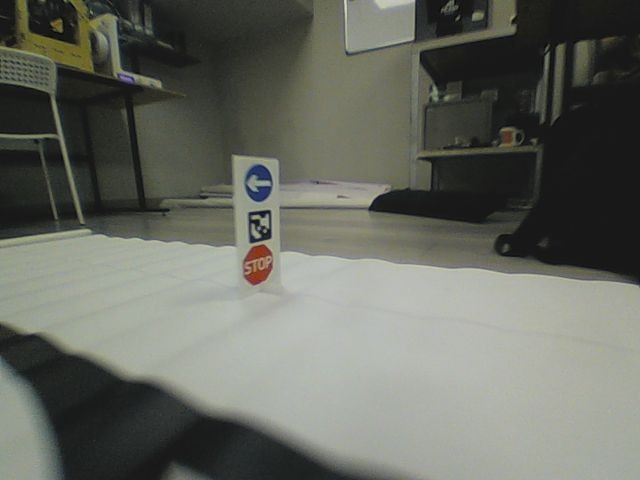Stop: (242, 243, 274, 286)
